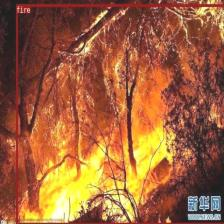fire: (16, 3, 224, 224)
